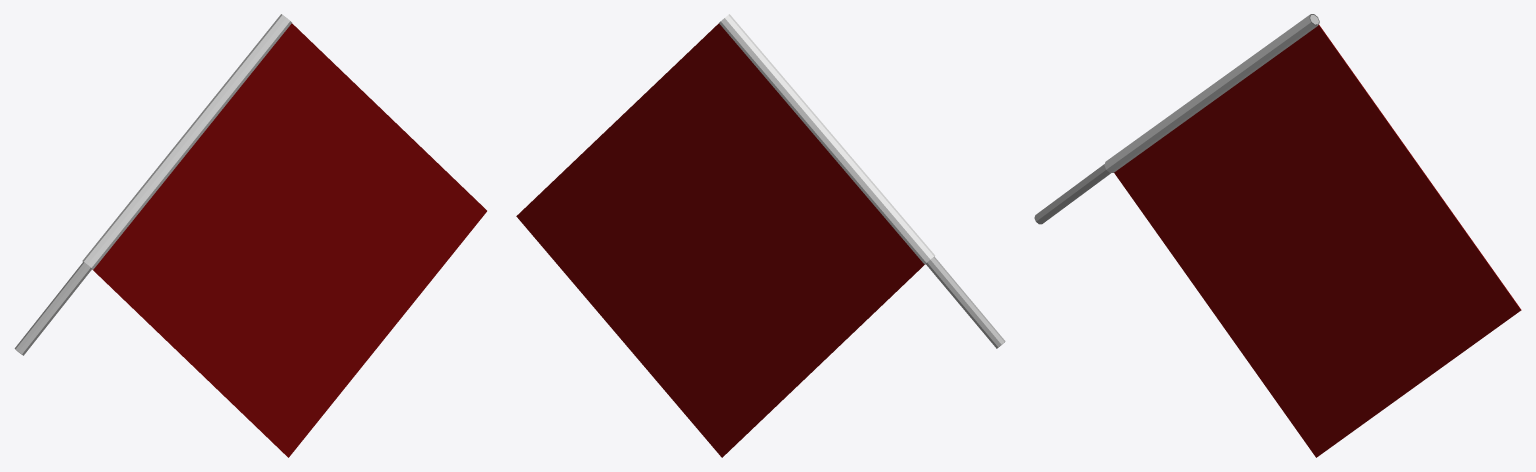
The model's file is 停车手信号红色旗帜图标.fbx.
The picture shows the model from 3 angles, left to right: view 1: azimuth 30°, elevation 25°; view 2: azimuth 150°, elevation 25°; view 3: azimuth 330°, elevation 25°; orthographic projection.
Parts seen in each view (by area): view 1: 停车手信号防护人员.001; view 2: 停车手信号防护人员.001; view 3: 停车手信号防护人员.001.
Boxes of the visible parts, x1,y1,x2,y2 form: 停车手信号防护人员.001: (14, 14, 486, 457); 停车手信号防护人员.001: (516, 14, 1005, 457); 停车手信号防护人员.001: (1034, 14, 1521, 457).
Bounding box in the file's own units: 58.95 × 52.16 × 2.49.
